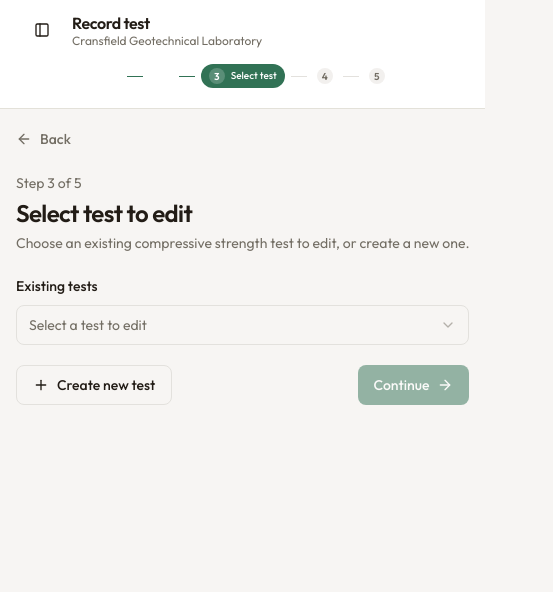
Test: RecordTestWizard selection flow › recovers the wizard when the selected test's project no longer exists
expect the heading "Select test to edit" is shown: met, box [16,198,192,228]
Click the dropdown named "Existing tests". click: click(88, 325)
box: [16,305,470,345]
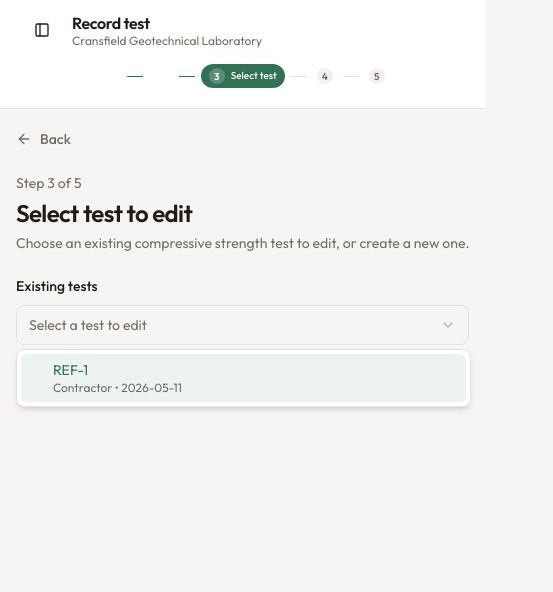
Click the option "REF-1 Contractor • 2026-05-11". click: click(71, 370)
box: [21,354,466,402]
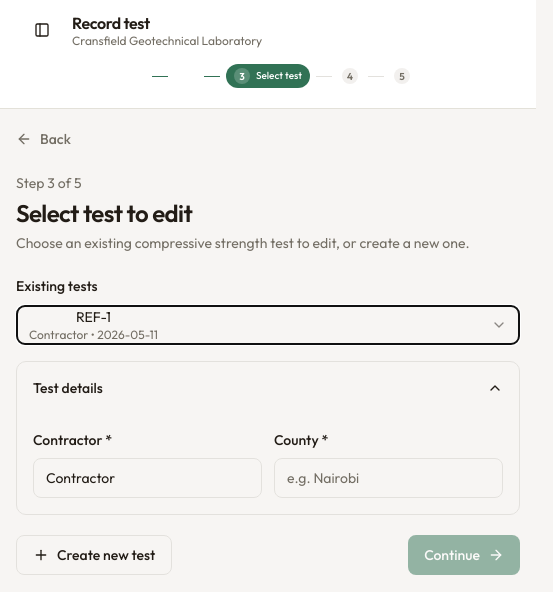
expect the field showing "Contractor" is shown: met, box [33,458,262,498]
